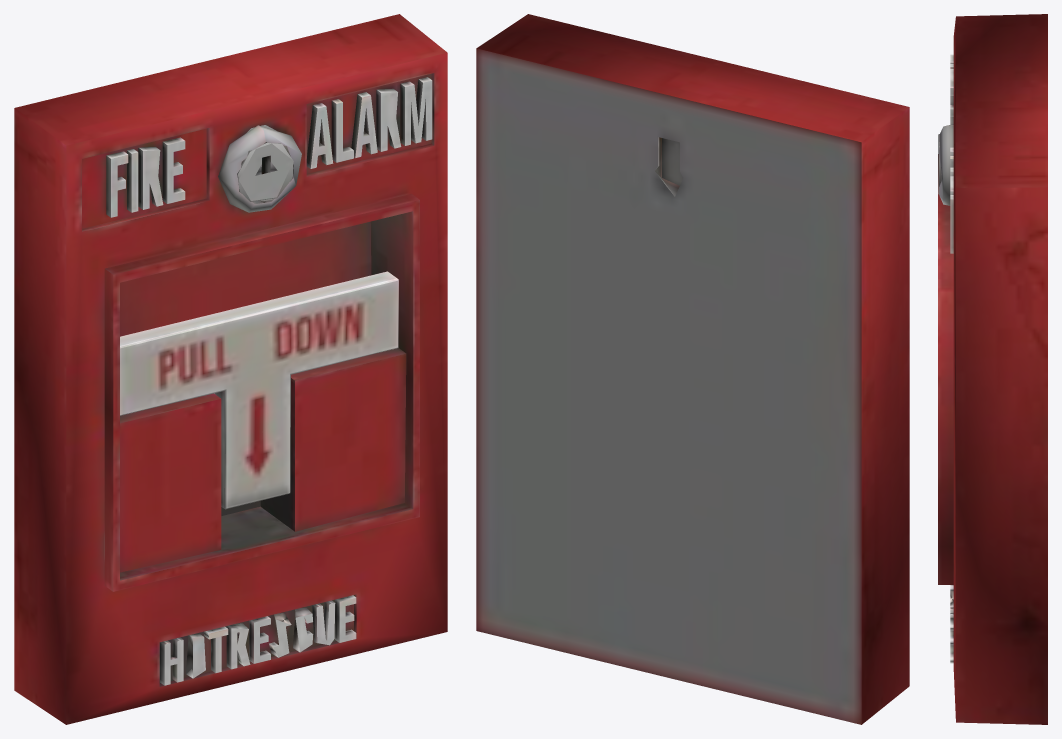
Rendered from fire_alarm.glb.
The picture shows the model from 3 angles, left to right: view 1: azimuth 30°, elevation 25°; view 2: azimuth 150°, elevation 25°; view 3: azimuth 270°, elevation 25°; orthographic projection. The views are drawn at different scales.
Visible parts, largest first — view 1: fire_alarm; view 2: fire_alarm; view 3: fire_alarm.
Boxes of the visible parts, left/top/right/bottom form: fire_alarm: left=14, top=14, right=447, bottom=724; fire_alarm: left=476, top=14, right=909, bottom=724; fire_alarm: left=938, top=14, right=1047, bottom=724.
Size of the model in its own units: 0.0984 by 0.1422 by 0.0264.
Materials: 1 (1 with a texture image).
